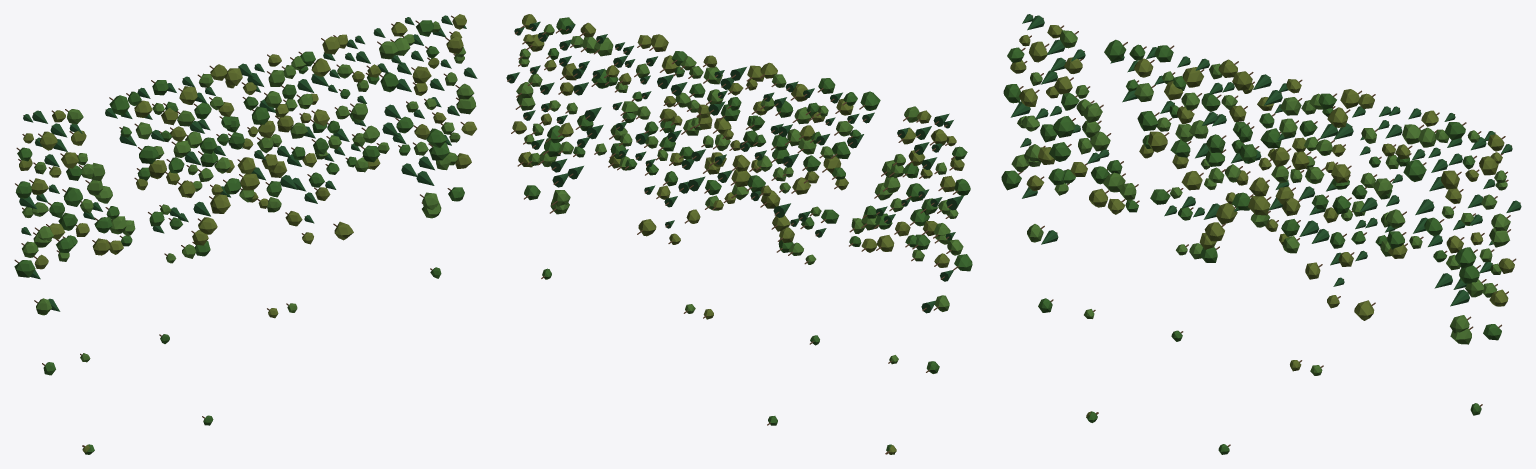
File: trees.obj
3 renders of one model, left to right at view 1: azimuth 30°, elevation 25°; view 2: azimuth 150°, elevation 25°; view 3: azimuth 330°, elevation 25°, orthographic. The views are drawn at different scales.
Bounding box in the file's own units: 205 × 154 × 12.95.
